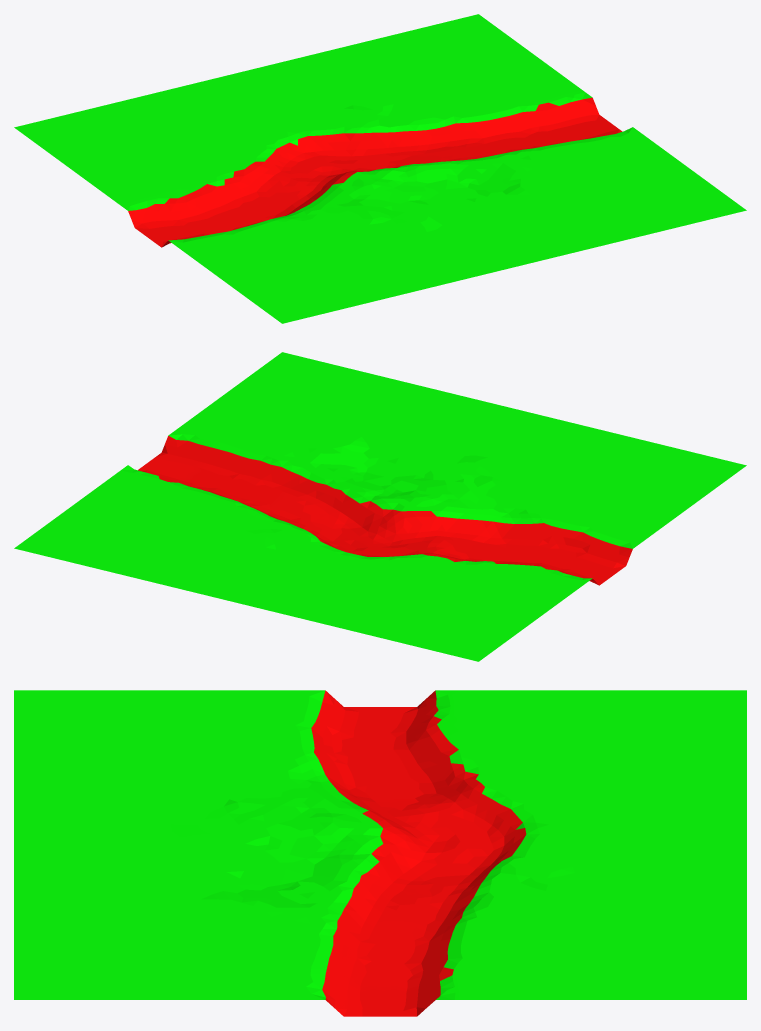
The model's file is River05.fbx.
3 views of the same model, one above another, from view 1: azimuth 30°, elevation 25°; view 2: azimuth 150°, elevation 25°; view 3: azimuth 270°, elevation 25° (orthographic). The views are drawn at different scales.
Visible parts, largest first — view 1: River05; view 2: River05; view 3: River05.
Boxes of the visible parts, <box> form: River05: <box>14,14,746,323</box>; River05: <box>14,352,746,661</box>; River05: <box>14,690,746,1016</box>.
Size of the model in its own units: 5009 by 197 by 5009.
